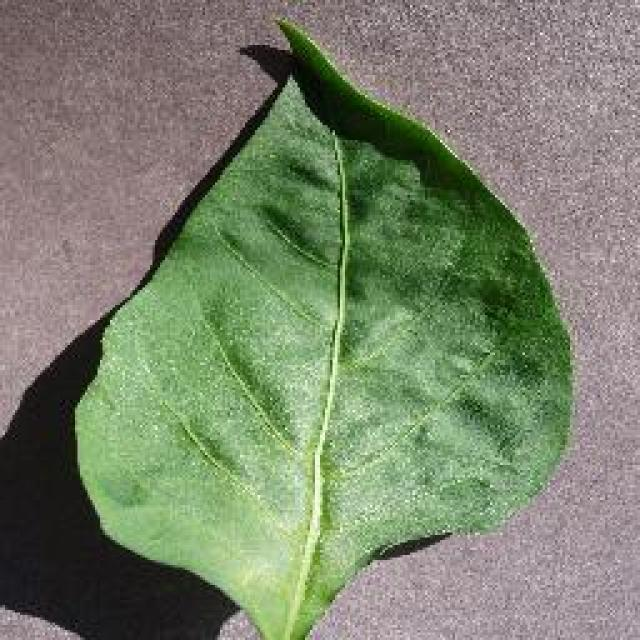Chilli_Healthy: (70, 15, 575, 637)
